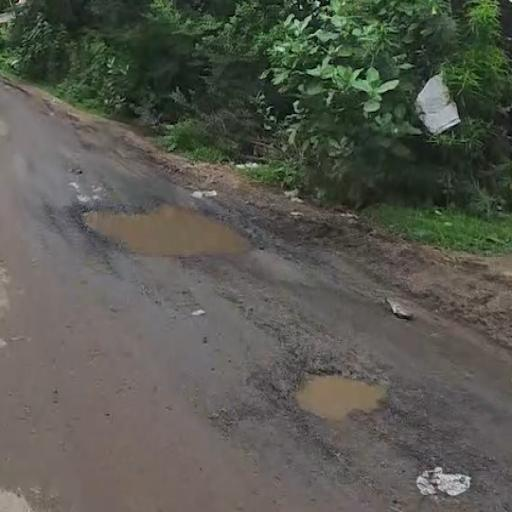pothole: (54, 130, 269, 300), (254, 308, 428, 466)
